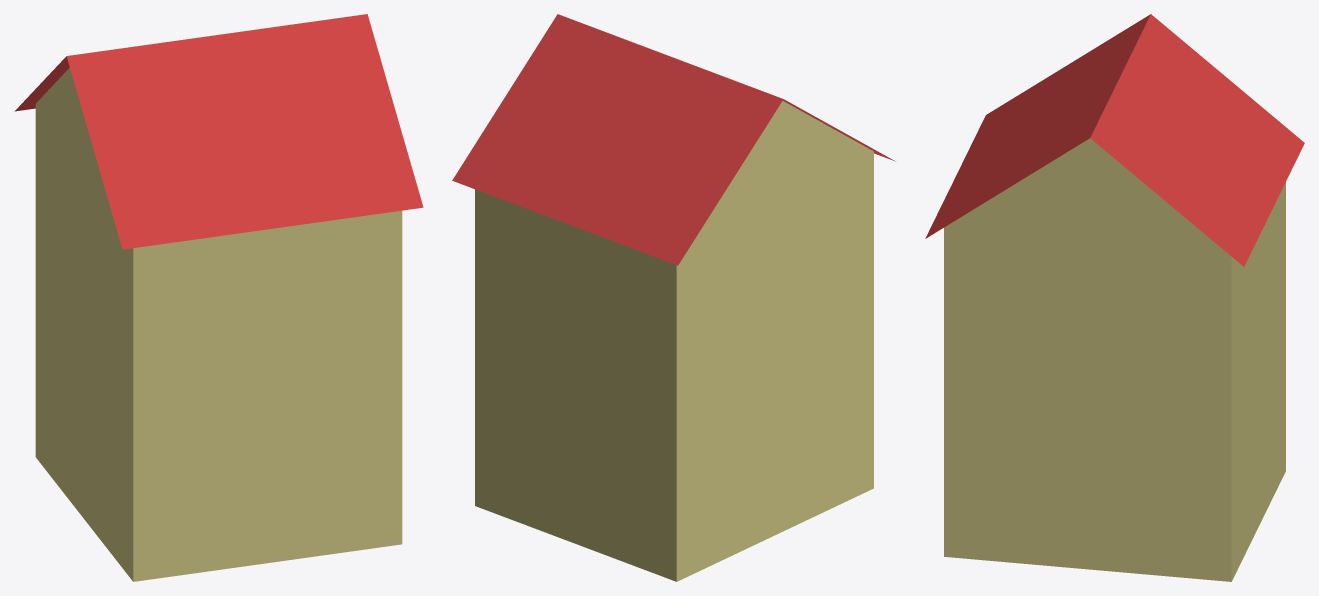
3 views of the same model, side by side, from view 1: azimuth 30°, elevation 25°; view 2: azimuth 150°, elevation 25°; view 3: azimuth 270°, elevation 25° (orthographic). The views are drawn at different scales.
Bounding box in the file's own units: 11.23 × 11.86 × 15.1.
